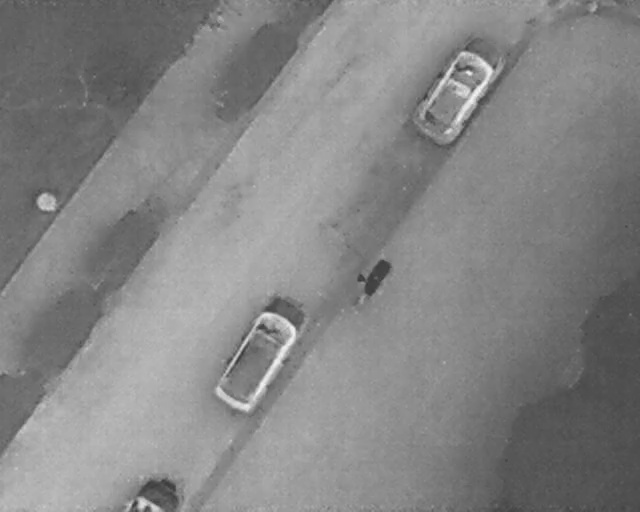Car: (401, 25, 514, 155), (205, 289, 313, 418), (124, 477, 182, 510)
